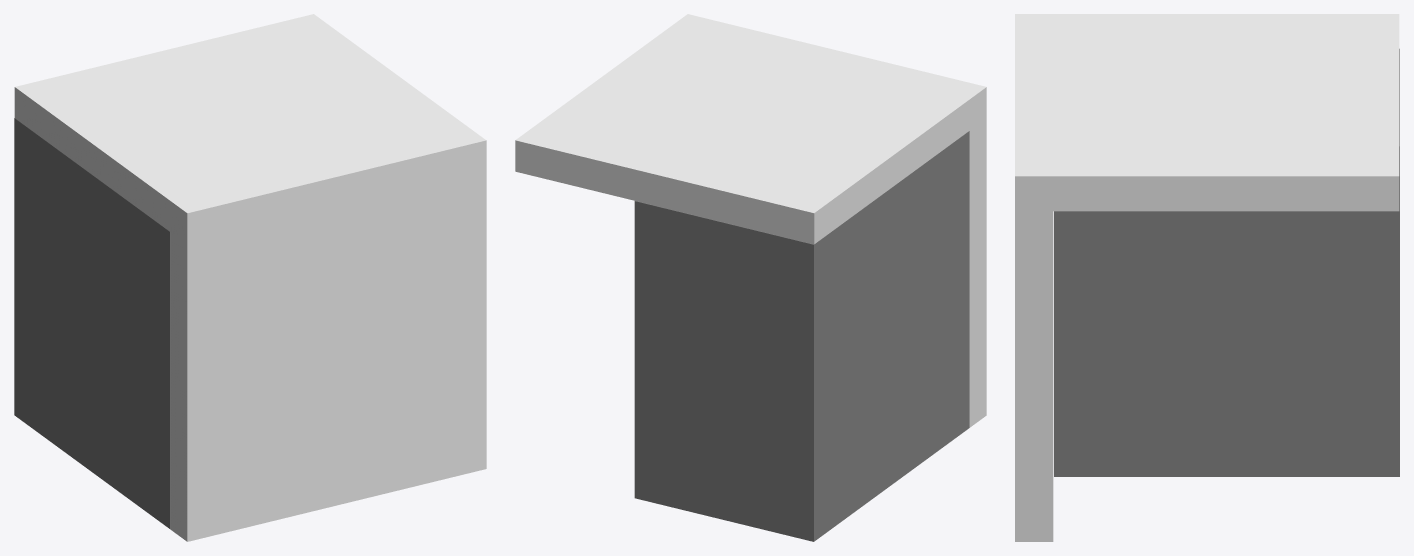
File: Bench_End_05.fbx
3 renders of one model, left to right at view 1: azimuth 30°, elevation 25°; view 2: azimuth 150°, elevation 25°; view 3: azimuth 270°, elevation 25°, orthographic. The views are drawn at different scales.
Parts seen in each view (by area): view 1: Bench_End_05; view 2: Bench_End_05; view 3: Bench_End_05.
Boxes of the visible parts, box(x1,y1,x2,y2) form: Bench_End_05: box(14, 14, 486, 541); Bench_End_05: box(515, 14, 986, 541); Bench_End_05: box(1015, 14, 1399, 541).
Size of the model in its own units: 150 by 158 by 150.
